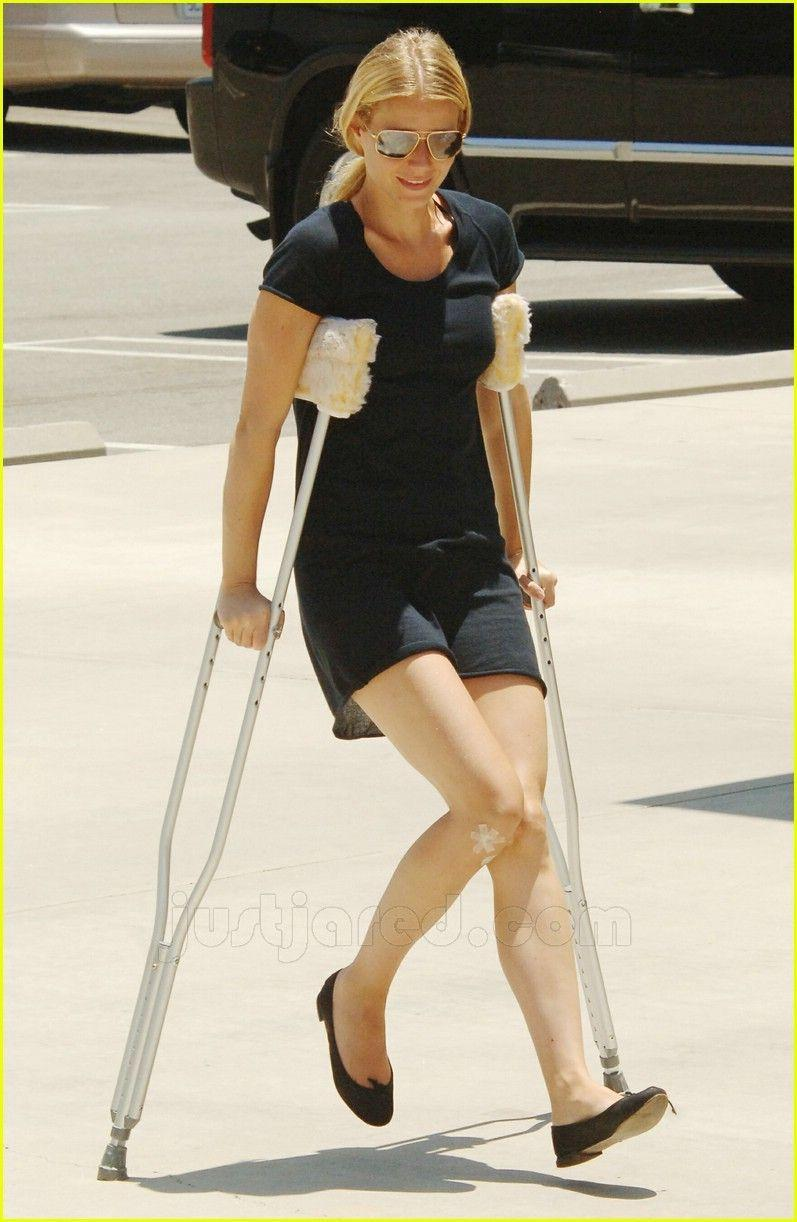crutches: (85, 23, 682, 1193)
